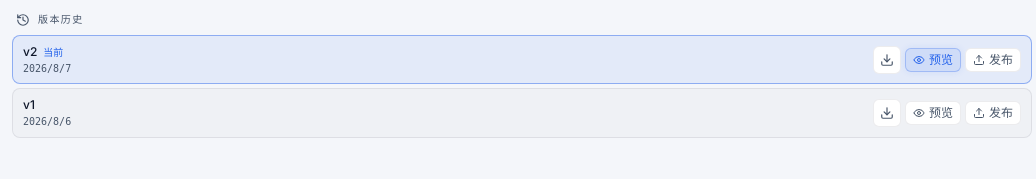
VersionHistoryPanel › shows a failure message and restores the button after a failed download
Click the button with test id "download-v1" at (887, 113), box x1=873 y1=99 x2=901 y2=127
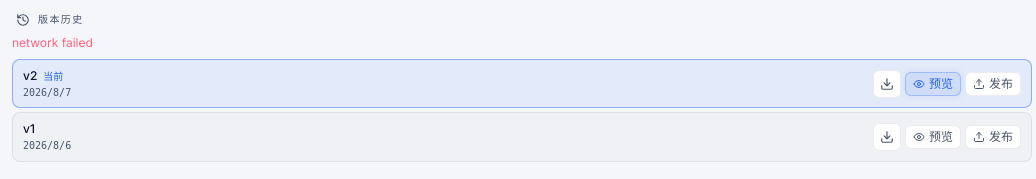
Expected: the button with test id "download-v1" is enabled, x1=873 y1=123 x2=901 y2=151
Now the message reads "network failed", box x1=12 y1=35 x2=93 y2=50
